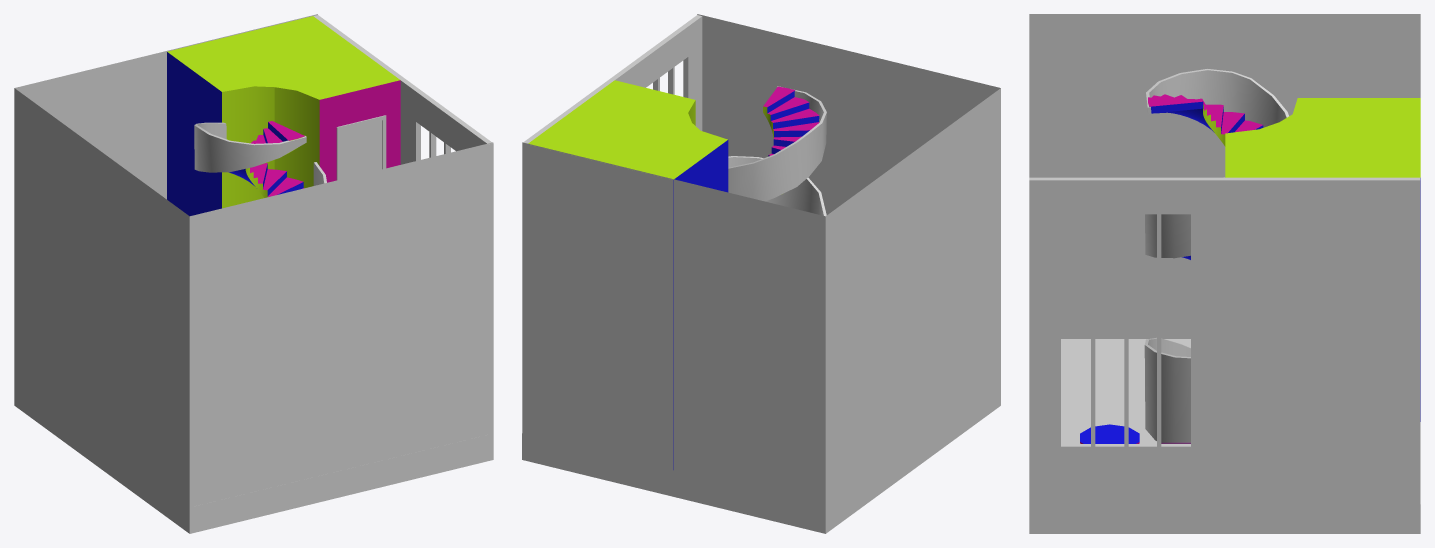
Rendered from Couloir2.FBX.
3 views of the same model, side by side, from view 1: azimuth 30°, elevation 25°; view 2: azimuth 150°, elevation 25°; view 3: azimuth 270°, elevation 25° (orthographic). The views are drawn at different scales.
Parts seen in each view (by area): view 1: mur1, mur2, bloc avec alcove plantes, sol002, mur3, mur fenetres, mirroir couloir2, Cylinder031, tableau, SpiralStair001; view 2: mur3, mur2, mur1, bloc avec alcove plantes, mur fenetres, Cylinder031, SpiralStair001, Cylinder029; view 3: mur fenetres, mur2, sol002, bloc avec alcove plantes, Cylinder031, Cylinder030, SpiralStair001, Cylinder029, table031.
Part boxes in pixels (<box>): mur1: <box>189,142,493,533</box>; mur2: <box>14,88,189,533</box>; bloc avec alcove plantes: <box>167,16,400,216</box>; sol002: <box>190,433,493,533</box>; mur3: <box>15,14,317,199</box>; mur fenetres: <box>313,15,493,434</box>; mirroir couloir2: <box>47,77,140,147</box>; Cylinder031: <box>194,122,306,172</box>; tableau: <box>336,115,386,180</box>; SpiralStair001: <box>229,121,304,197</box>; mur3: <box>522,142,825,533</box>; mur2: <box>825,88,1000,533</box>; mur1: <box>697,14,1000,215</box>; bloc avec alcove plantes: <box>528,80,728,469</box>; mur fenetres: <box>523,15,702,143</box>; Cylinder031: <box>728,86,826,201</box>; SpiralStair001: <box>763,86,819,156</box>; Cylinder029: <box>728,156,826,216</box>; mur fenetres: <box>1029,177,1420,504</box>; mur2: <box>1029,14,1420,338</box>; sol002: <box>1029,339,1420,533</box>; bloc avec alcove plantes: <box>1225,98,1420,421</box>; Cylinder031: <box>1146,69,1288,127</box>; Cylinder030: <box>1144,337,1190,442</box>; SpiralStair001: <box>1148,94,1263,259</box>; Cylinder029: <box>1145,214,1190,258</box>; table031: <box>1080,424,1139,443</box>.
Size of the model in its own units: 600 by 600 by 601.
